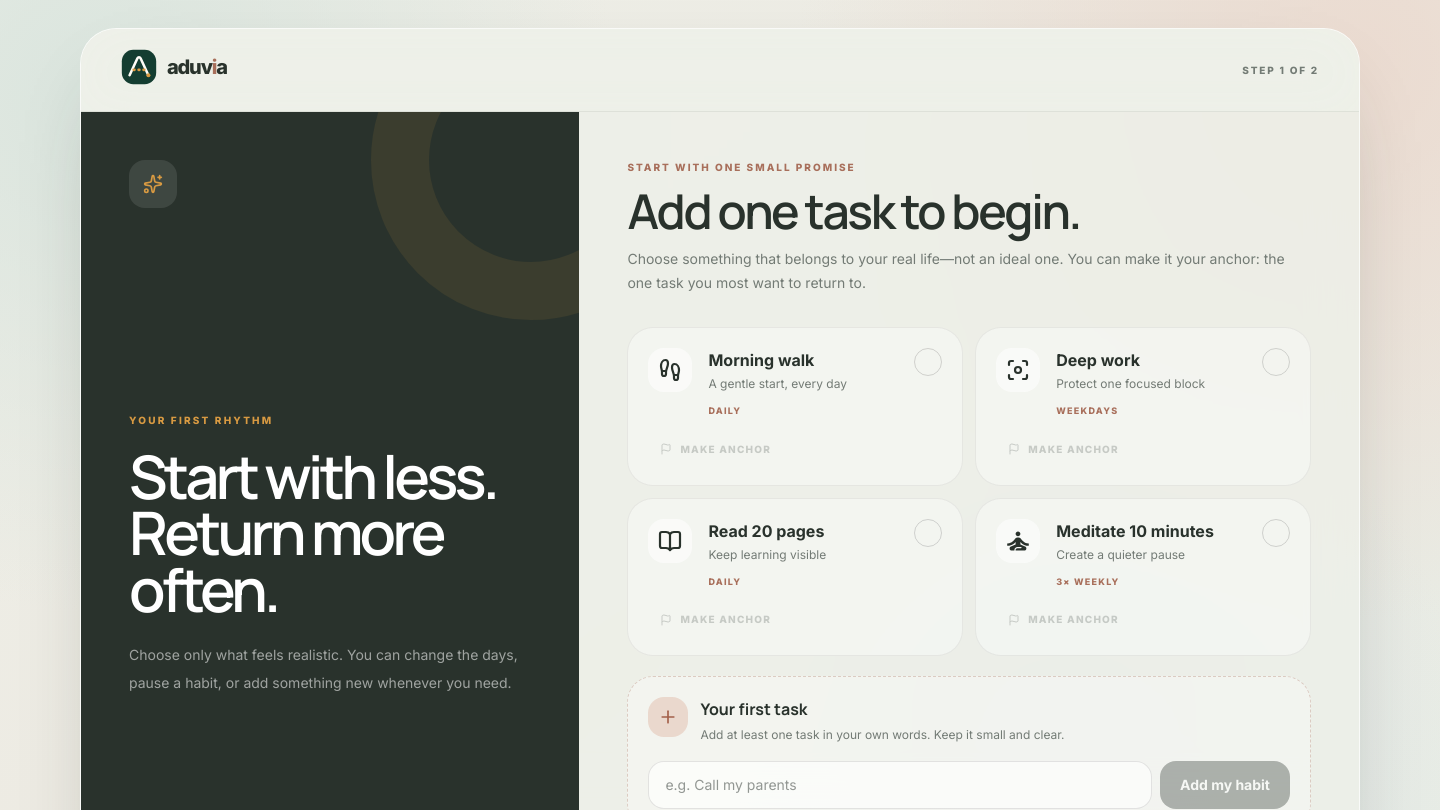
Test case: OnboardingScreen › requires a user-created task before offering an optional side quest
The image size is (1440, 810).
Type "Prepare tomorrow's clothes" into the field named "Custom habit name".
click(900, 785); type("Prepare tomorrow's clothes")  # box [648,761,1152,809]
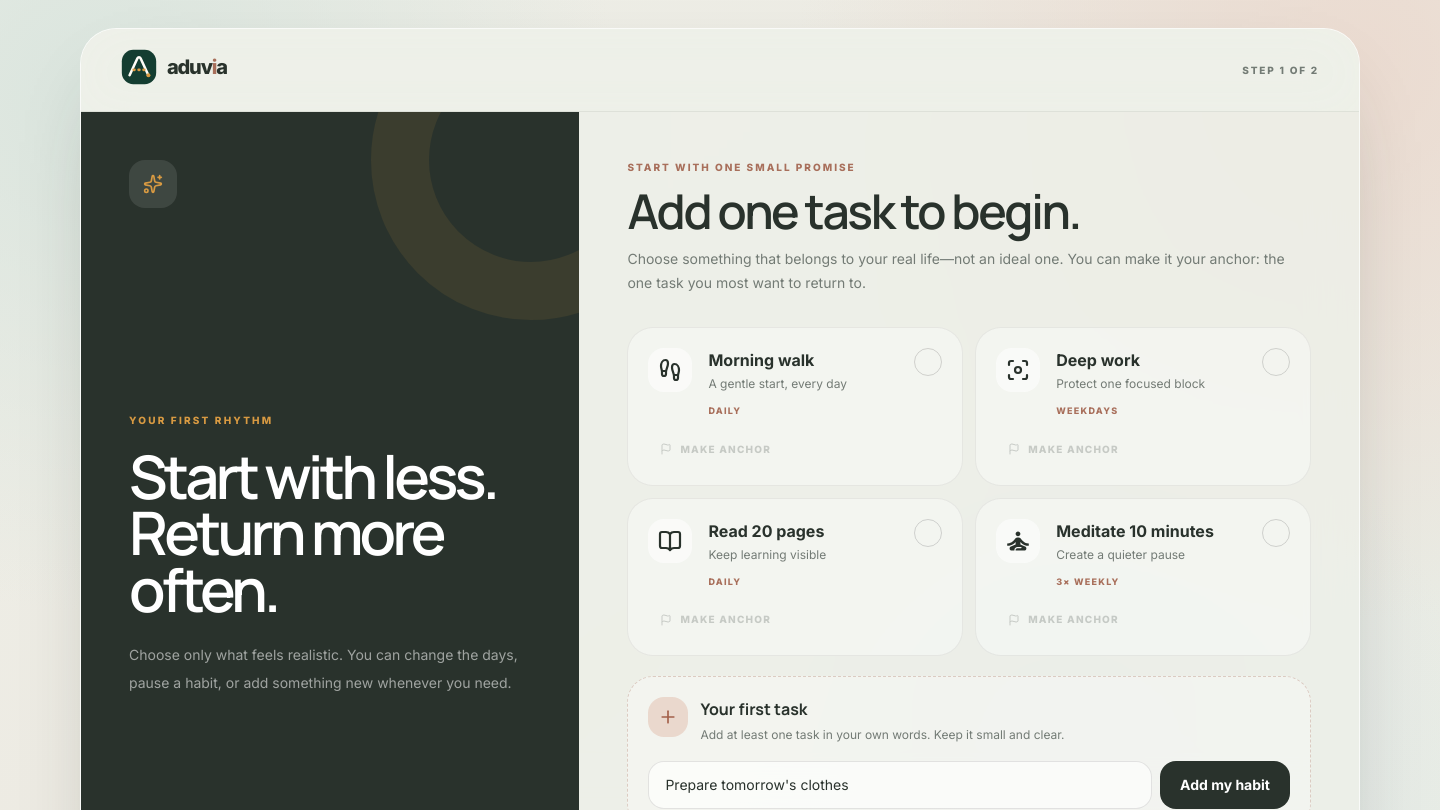
Click the button "Add my habit".
click(1225, 785)  # box [1160,761,1290,809]
(page scrolled)
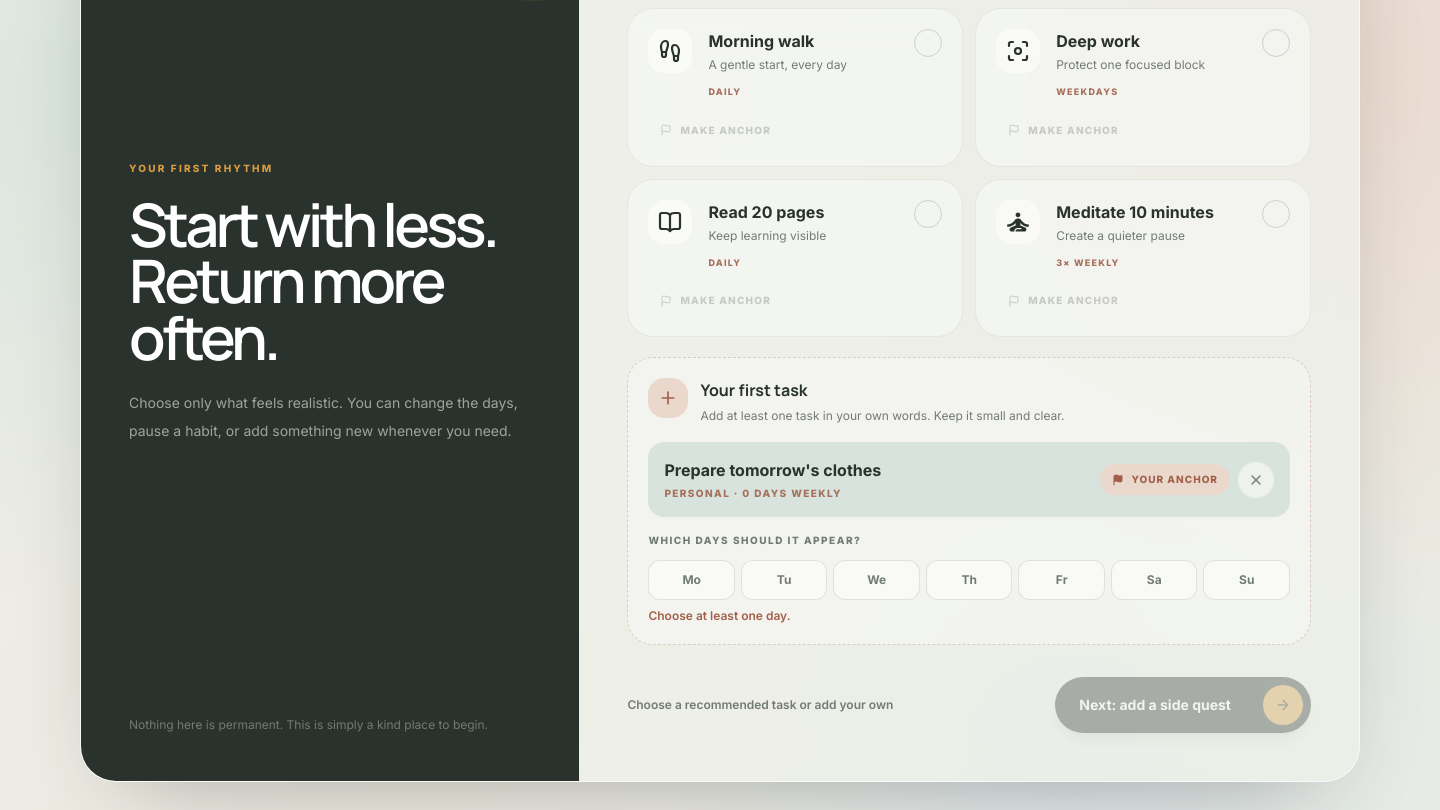
expect the button "Next: add a side quest" is disabled: met, box [1055,677,1311,733]
Click the button named "Monday not selected".
click(692, 580)  # box [648,560,735,600]
(page scrolled)
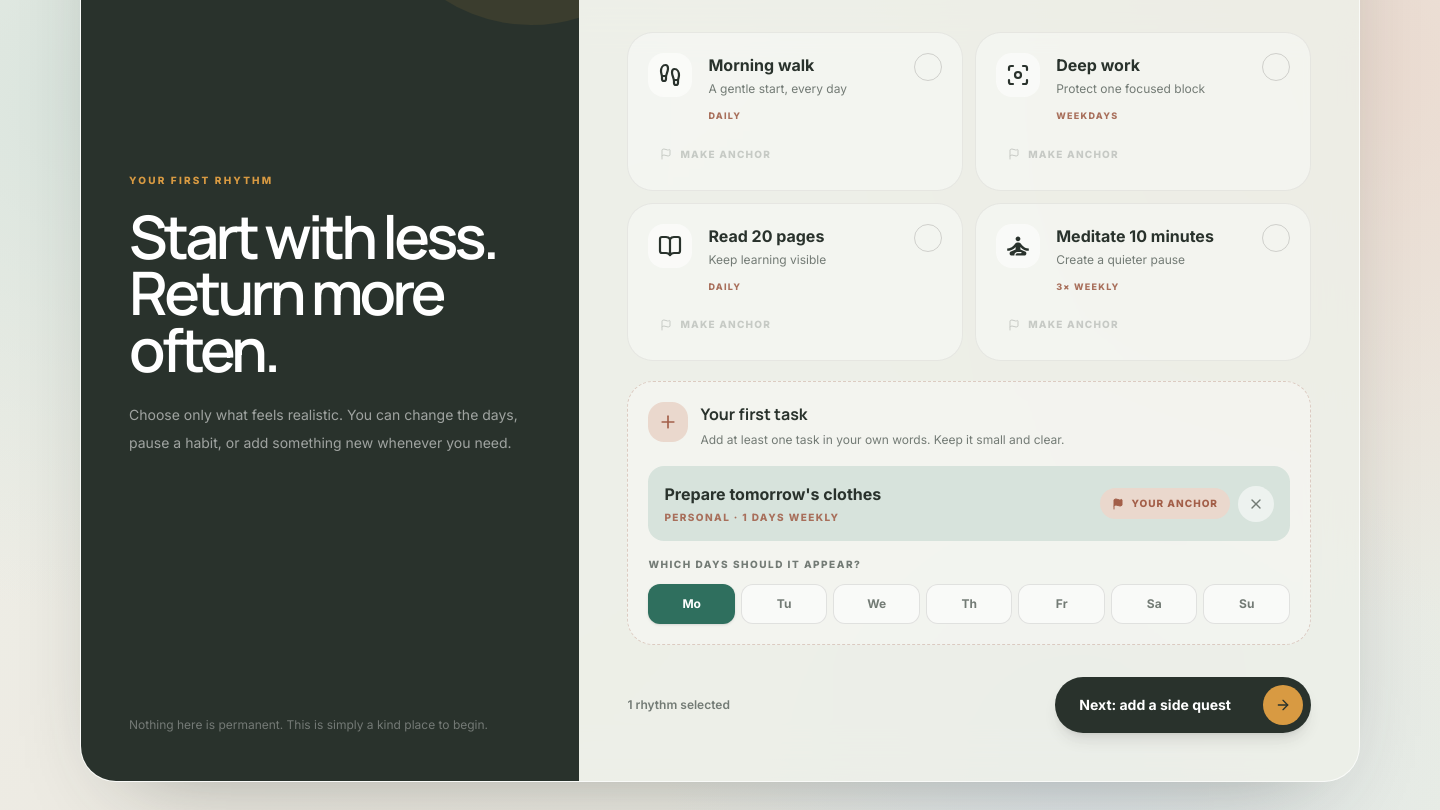
expect the button "Next: add a side quest" is enabled: met
Click the button "Next: add a side quest".
click(1183, 705)  # box [1055,677,1311,733]
(page scrolled)
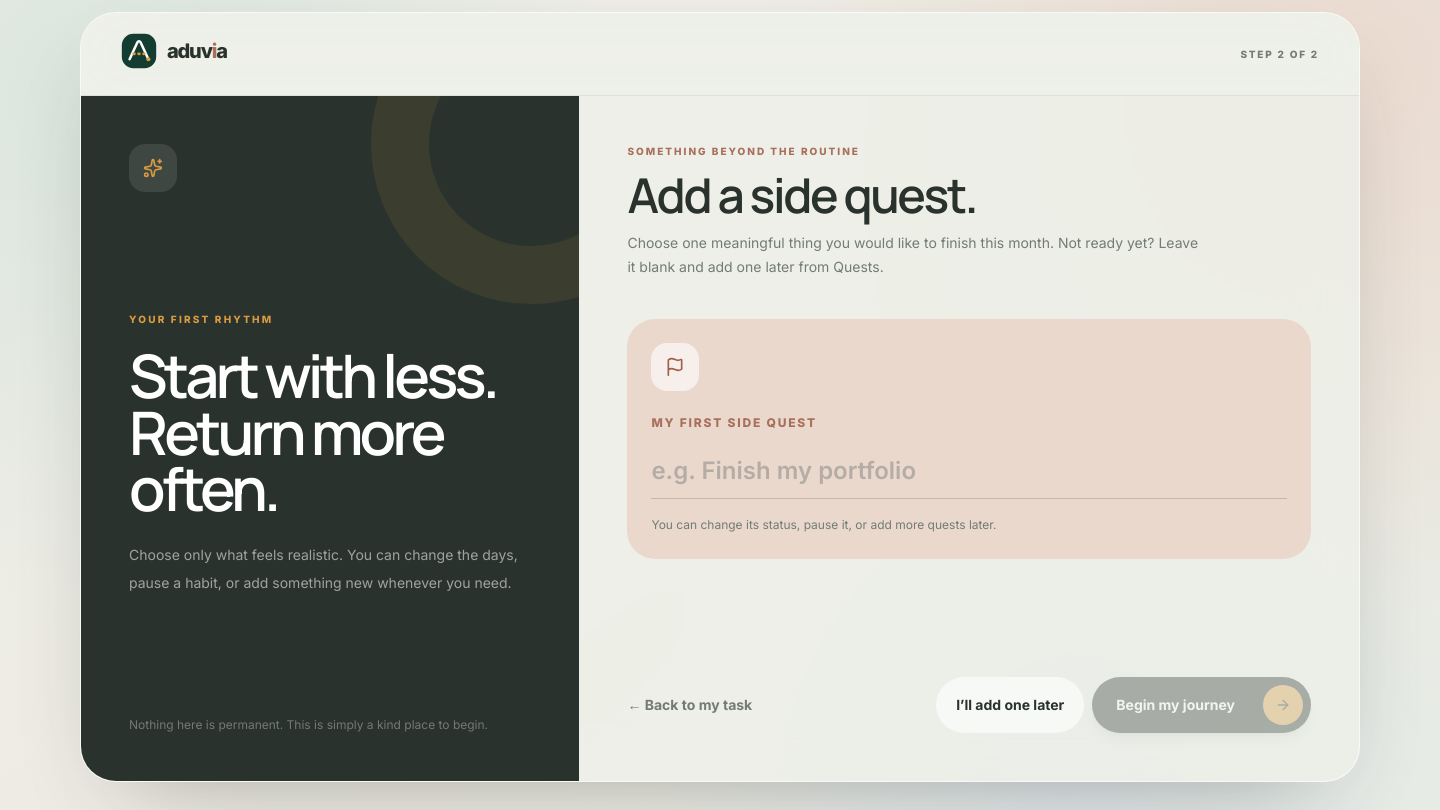
expect the heading "Add a side quest." is shown: met, box [627,162,976,227]
expect the button "I’ll add one later" is shown: met, box [936,677,1084,733]
